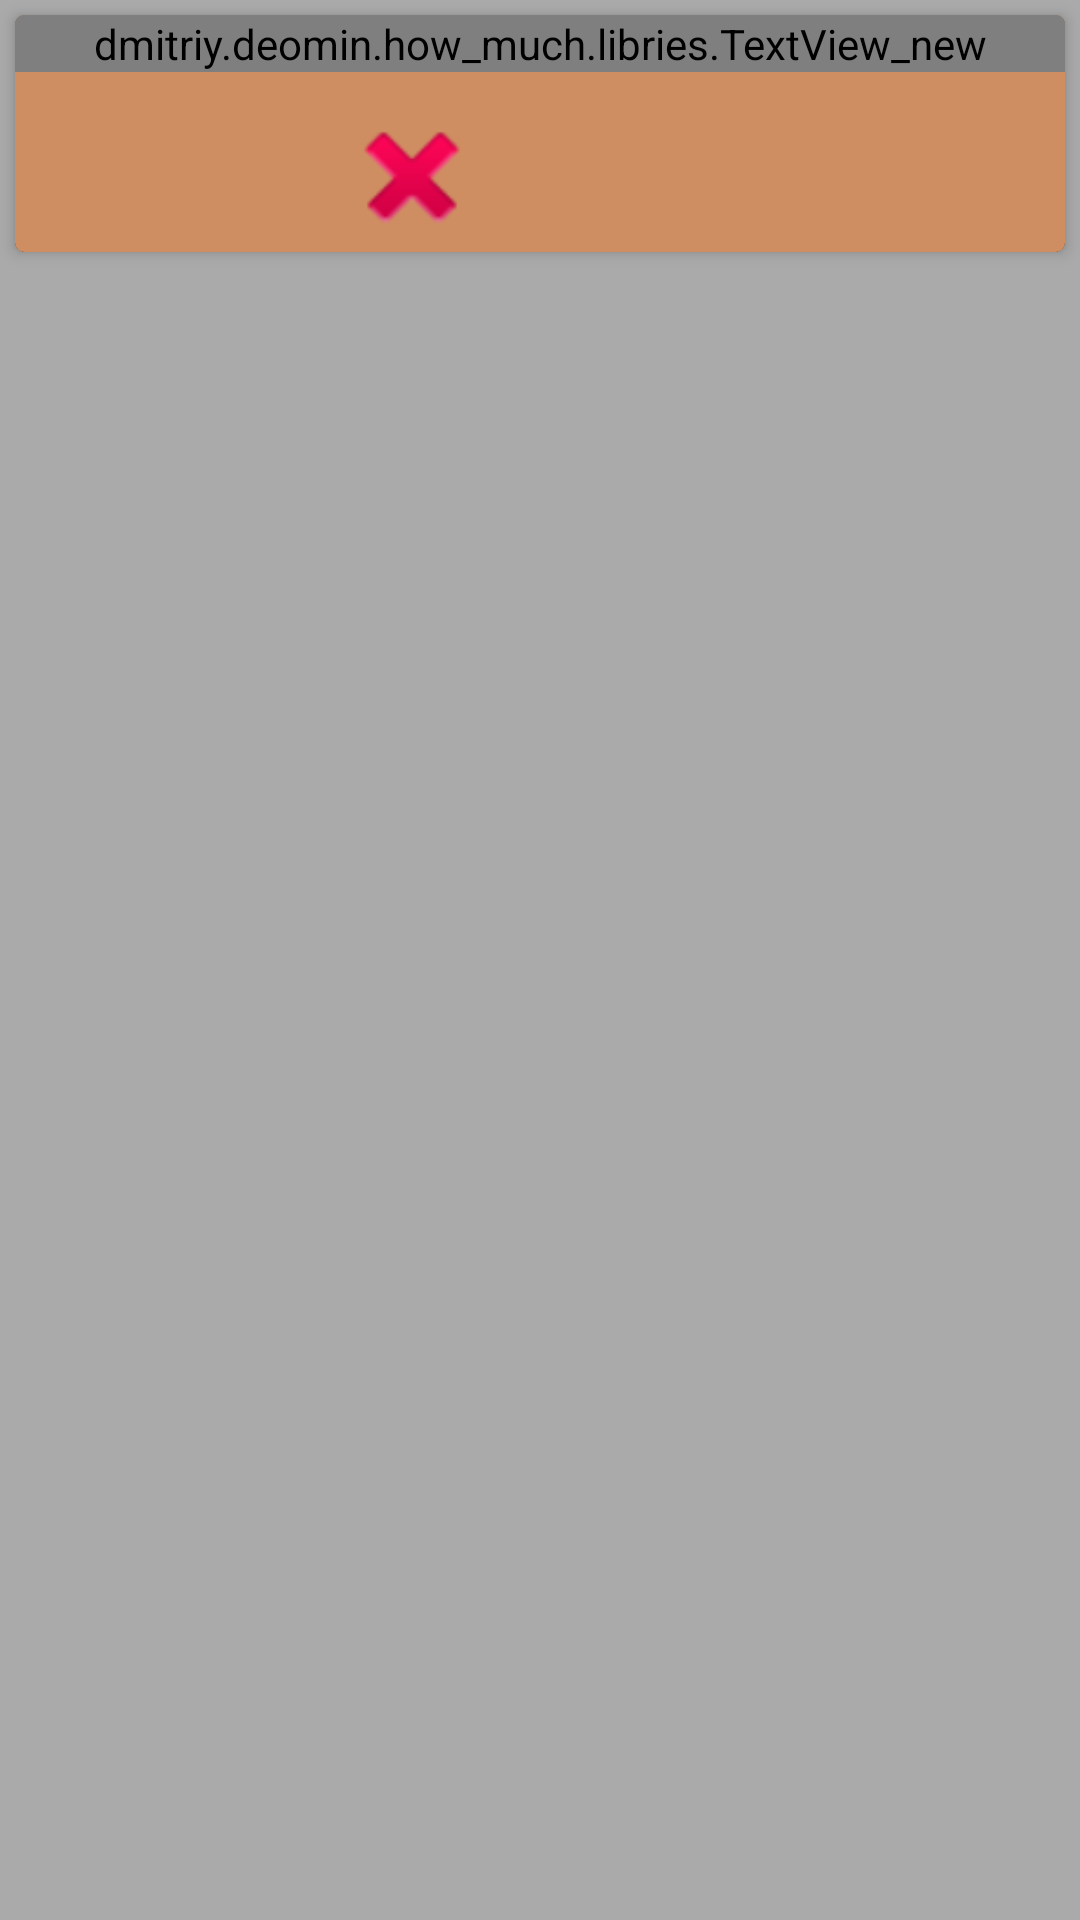

Where icons sit on this 1080x1920 app screen, as [x1, y1, x2, y2]:
delete: [365, 132, 459, 222]
